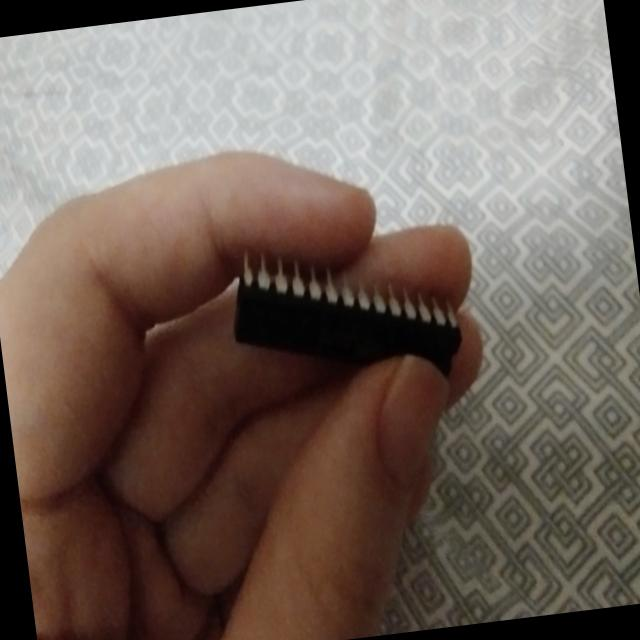atmega: (220, 221, 470, 406)
